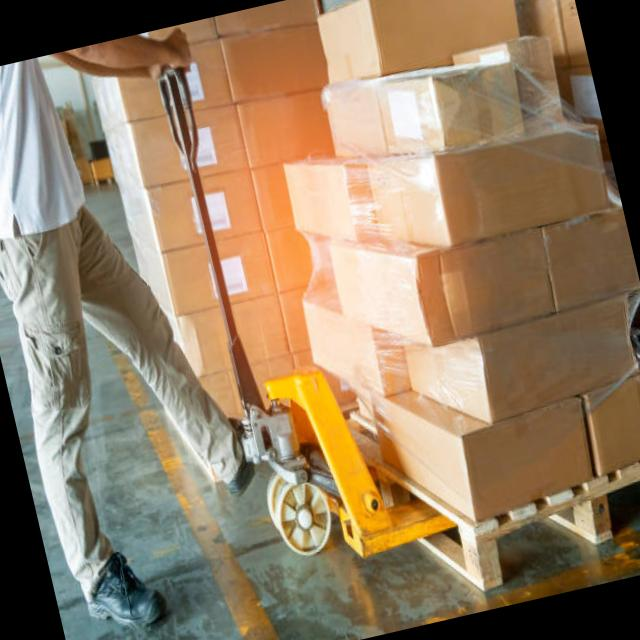Wooden-Pallets: (469, 453, 640, 594)
